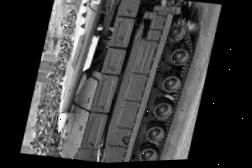rszo: (44, 0, 212, 166)
